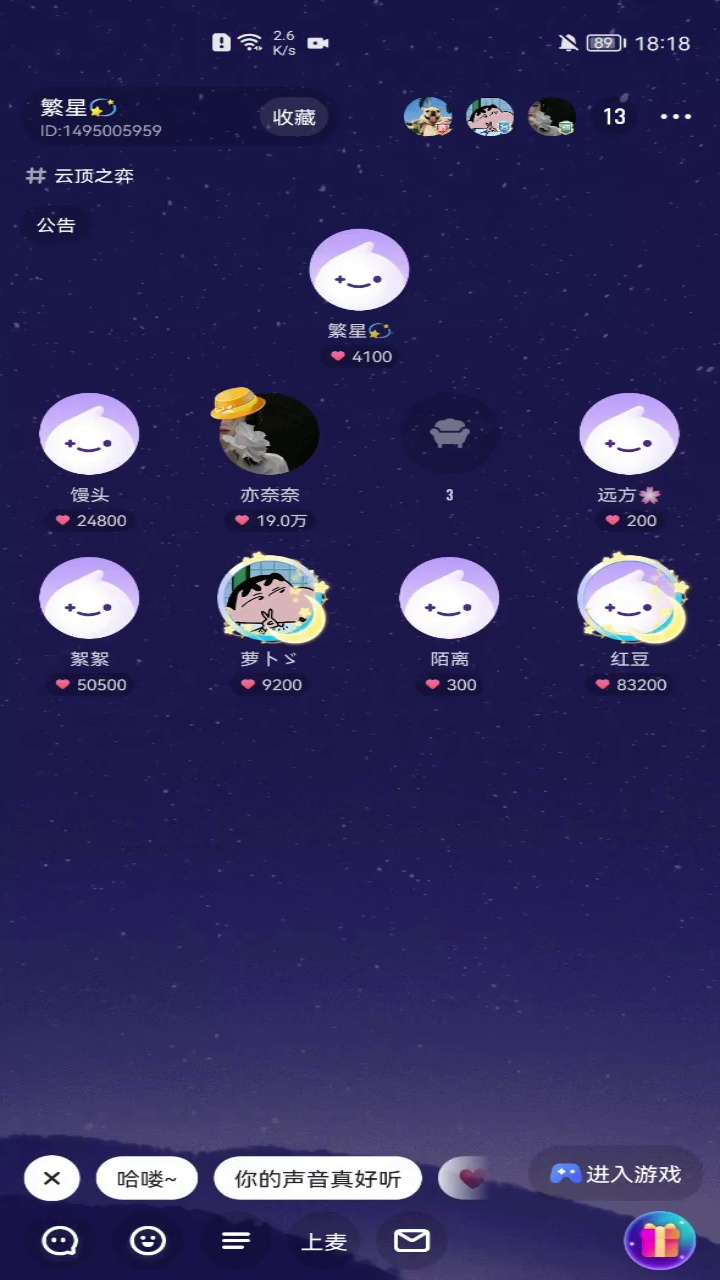avatar: (572, 548, 691, 650), (301, 218, 416, 320), (393, 546, 505, 645), (32, 384, 145, 481), (32, 552, 149, 645), (569, 388, 687, 476)
